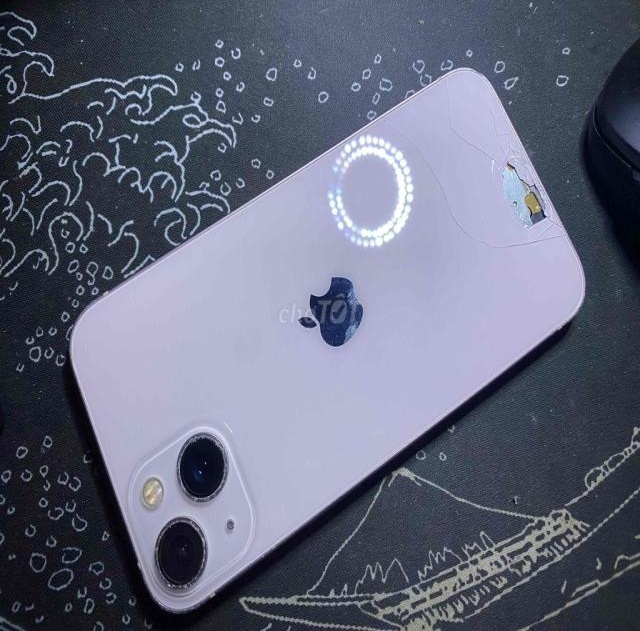physical_damage: (376, 76, 586, 334)
